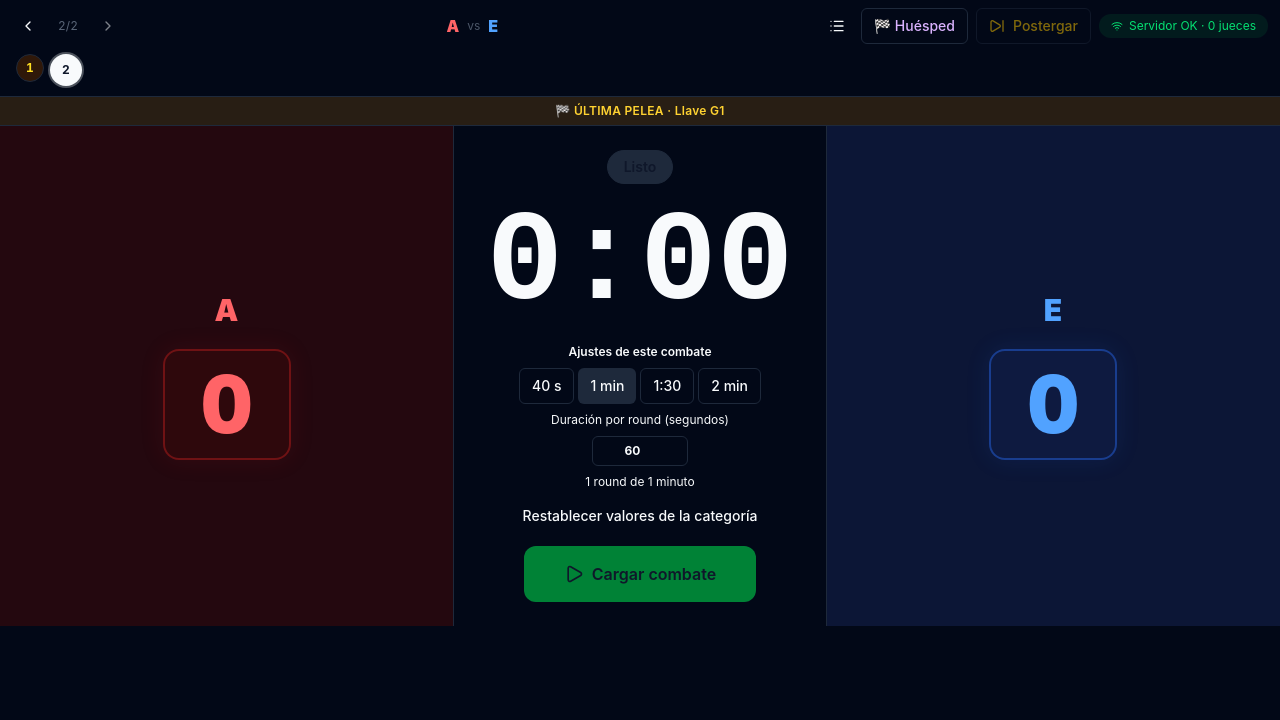
Scenario: operator-confirmed round-robin rest advisory › warns on an unavailable result instead of treating it as no previous bout
The width and height of the screenshot is (1280, 720).
Click the button "Cargar combate": point(640, 574) [524,546,756,602]
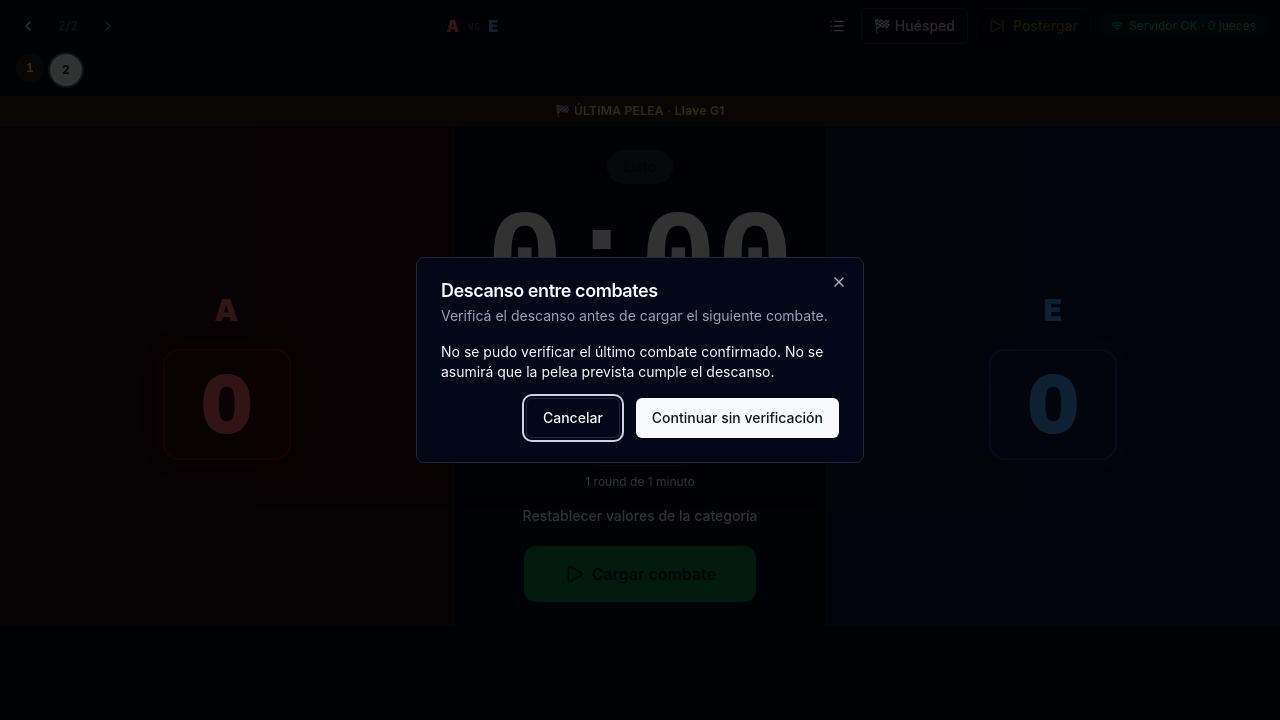
Result: the button "Continuar sin verificación" is shown at [636,398,839,438]
